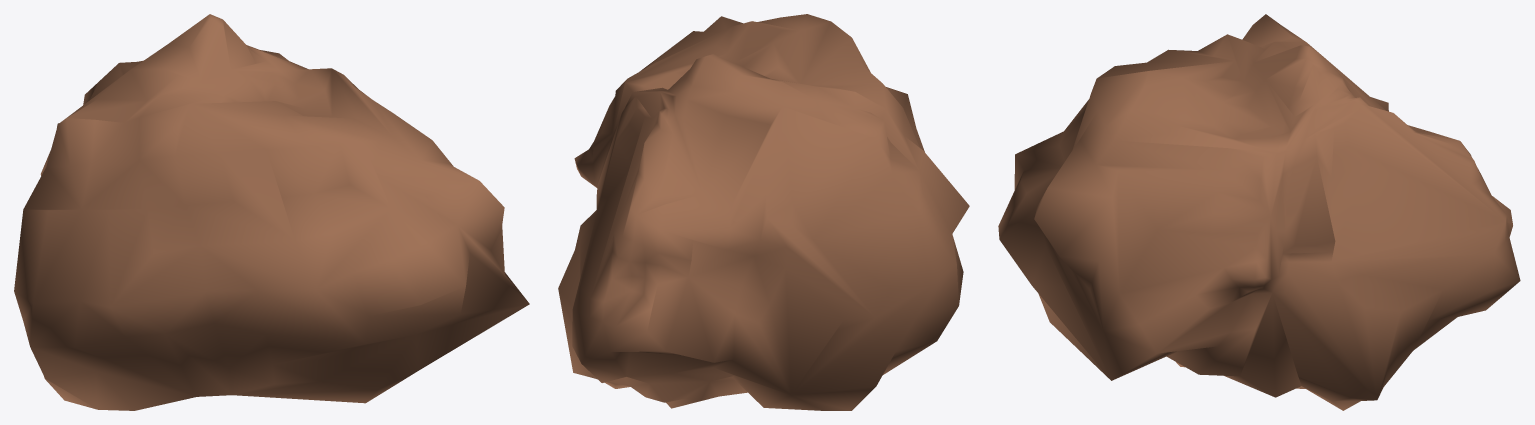
The model's file is rock_big_4.fbx.
The picture shows the model from 3 angles, left to right: view 1: azimuth 30°, elevation 25°; view 2: azimuth 150°, elevation 25°; view 3: azimuth 270°, elevation 25°; orthographic projection. The views are drawn at different scales.
Visible parts, largest first — view 1: Rock generator addon.007; view 2: Rock generator addon.007; view 3: Rock generator addon.007.
Part boxes in pixels (x1=…): Rock generator addon.007: x1=14, y1=14, x2=529, y2=410; Rock generator addon.007: x1=558, y1=14, x2=969, y2=410; Rock generator addon.007: x1=998, y1=14, x2=1520, y2=410.
Size of the model in its own units: 117 by 94.32 by 133.
